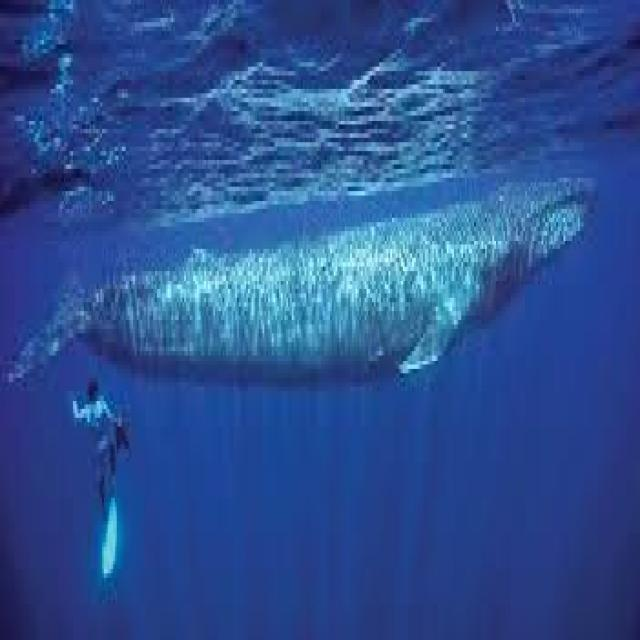blue_whale: (14, 146, 614, 378)
